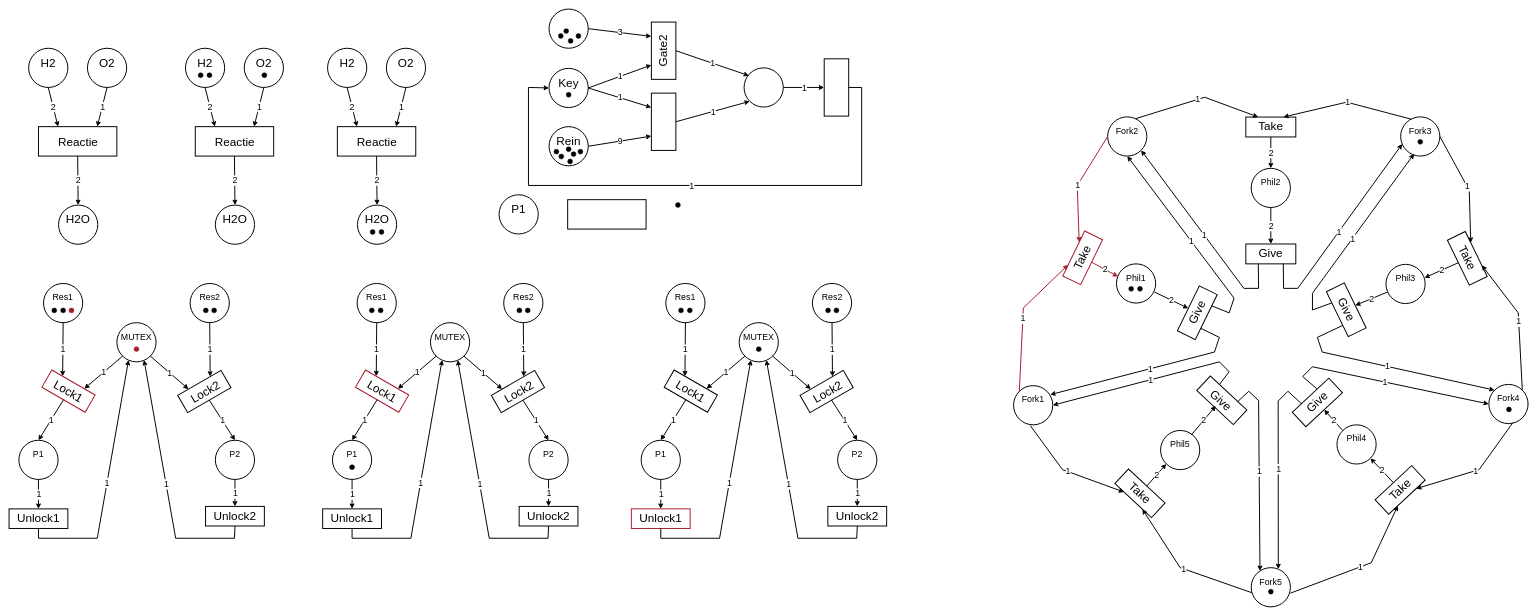
Image size: 1537x615. Some labels were removed from this diagram. The box of each missing label's shape, as (x1, y1, x2, y2) in pixels:
Elf: (548, 8, 588, 49)
Gate1: (651, 92, 676, 151)
Release: (823, 58, 849, 116)
Santa: (743, 67, 784, 107)
T1: (567, 199, 646, 229)
